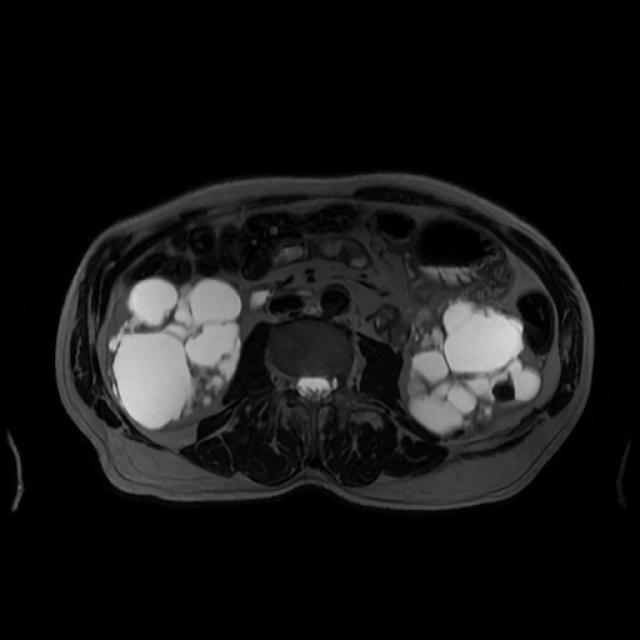sag: (109, 277, 245, 432)
sol: (405, 299, 543, 439)
